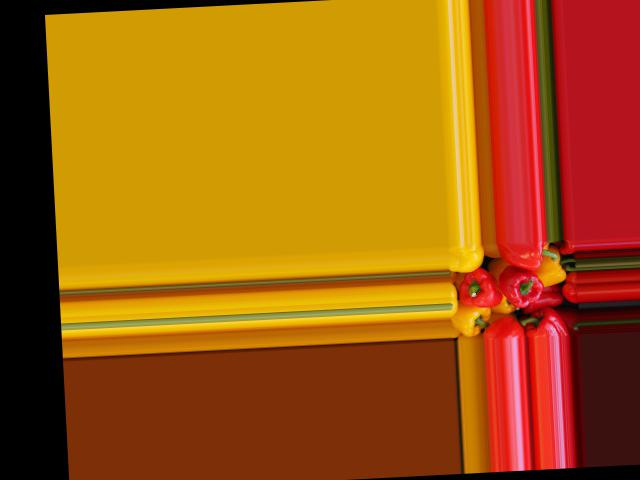bell_pepper: (451, 301, 488, 334)
